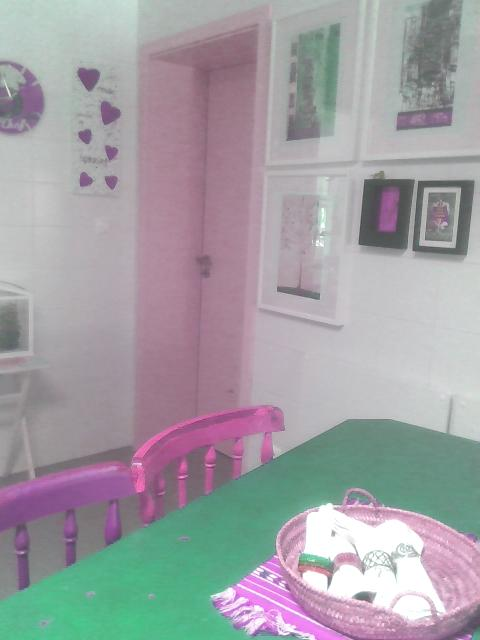closed_door: (133, 5, 265, 461)
